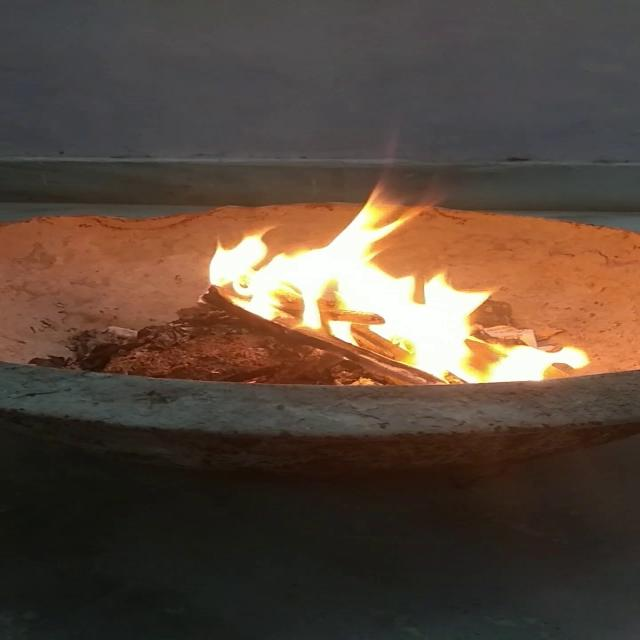fire: (204, 193, 578, 401)
